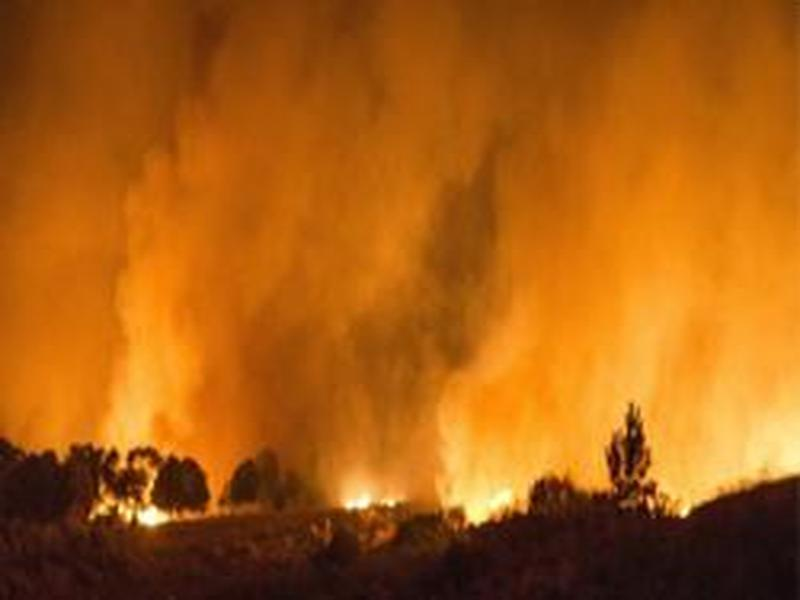FIRE: (60, 354, 672, 572)
